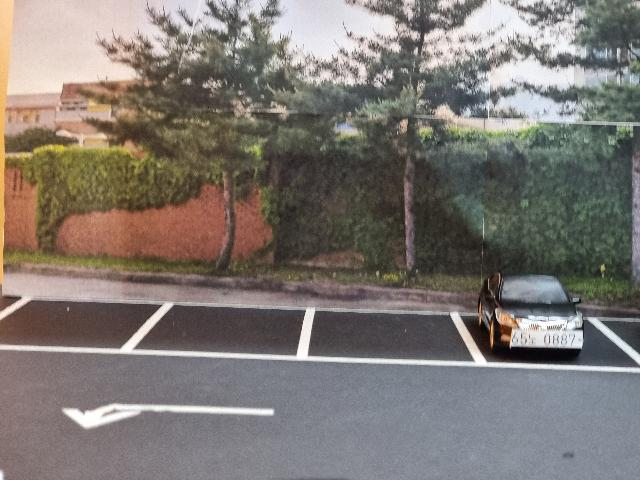empty: (134, 300, 316, 366), (306, 309, 474, 371), (5, 294, 152, 359)
occupied: (479, 273, 586, 365)
